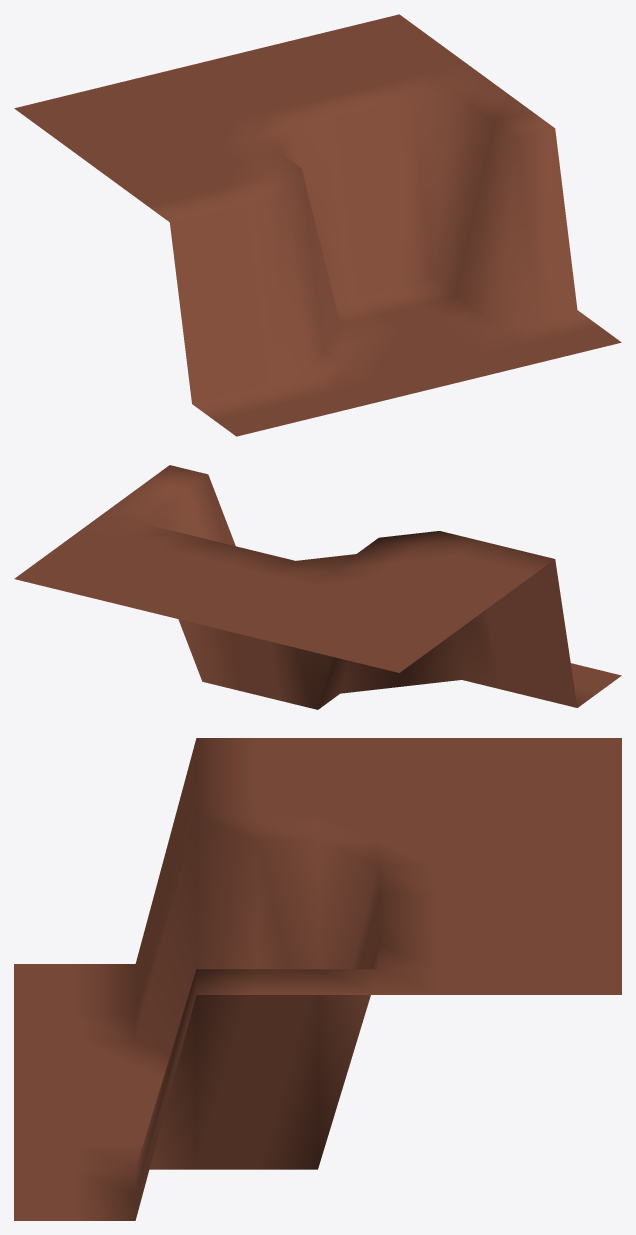
3 views of the same model, one above another, from view 1: azimuth 30°, elevation 25°; view 2: azimuth 150°, elevation 25°; view 3: azimuth 270°, elevation 25° (orthographic). The views are drawn at different scales.
Visible parts, largest first — view 1: ground-n1-n1; view 2: ground-n1-n1; view 3: ground-n1-n1.
Boxes of the visible parts, left/top/right/bottom form: ground-n1-n1: left=14, top=14, right=621, bottom=436; ground-n1-n1: left=14, top=465, right=621, bottom=709; ground-n1-n1: left=14, top=738, right=621, bottom=1220.
Size of what is drawn, in the model's own units: 100 by 41 by 100.
